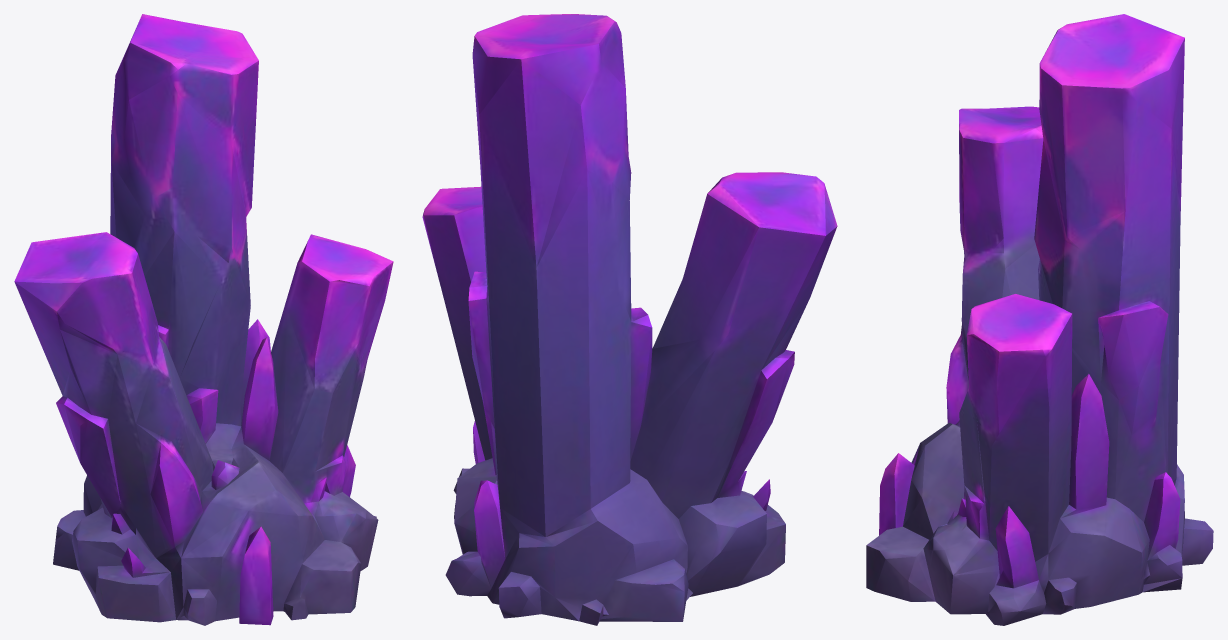
File: star_crystal.glb
3 renders of one model, left to right at view 1: azimuth 30°, elevation 25°; view 2: azimuth 150°, elevation 25°; view 3: azimuth 270°, elevation 25°, orthographic. The views are drawn at different scales.
Parts seen in each view (by area): view 1: body; view 2: body; view 3: body.
Boxes of the visible parts, x1=… form: body: x1=14, y1=14, x2=393, y2=625; body: x1=422, y1=14, x2=837, y2=625; body: x1=866, y1=14, x2=1213, y2=625.
Size of the model in its own units: 0.3021 by 0.3996 by 0.2393.
1 material, 1 textured.
